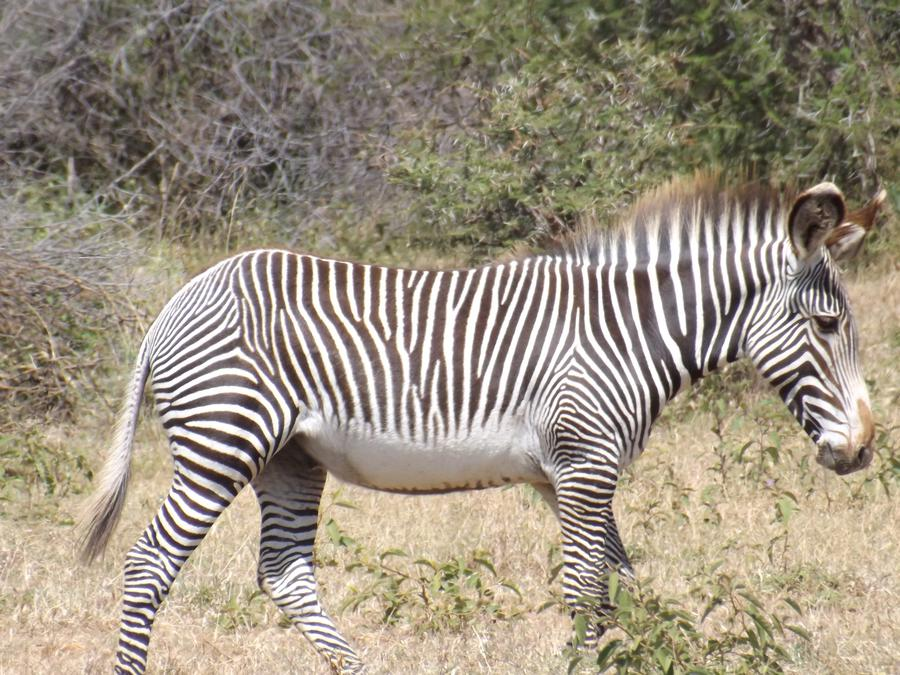zebra_grevys: (132, 241, 630, 478)
